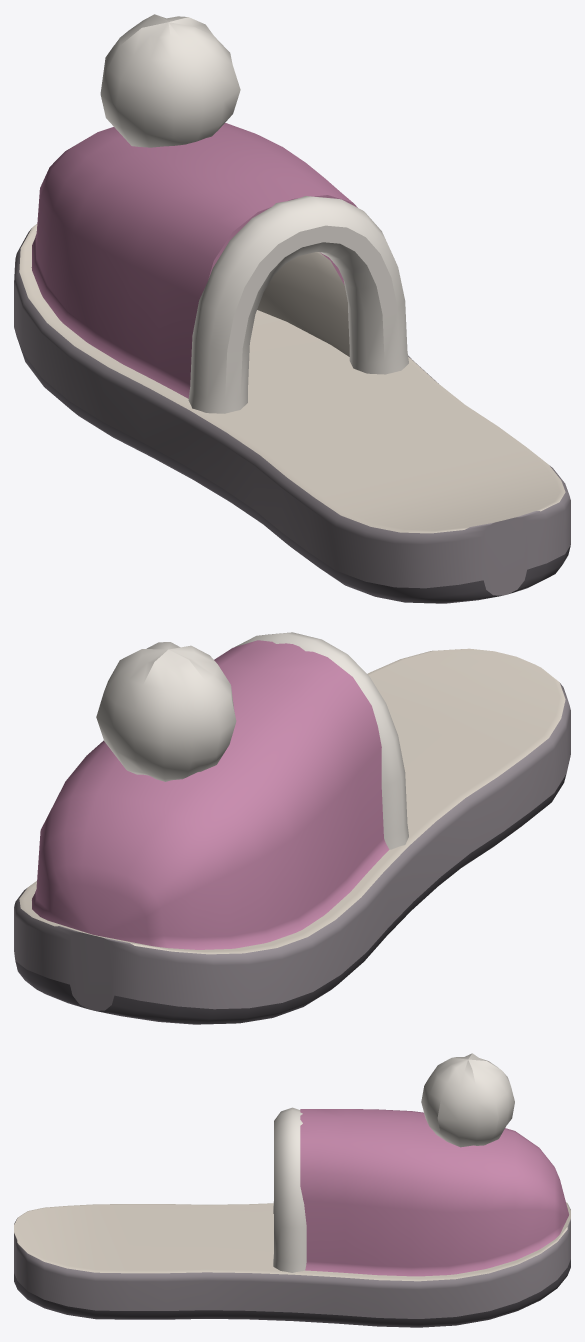
File: w_pj_slipper.glb
3 views of the same model, one above another, from view 1: azimuth 30°, elevation 25°; view 2: azimuth 150°, elevation 25°; view 3: azimuth 270°, elevation 25° (orthographic). The views are drawn at different scales.
Parts seen in each view (by area): view 1: sole_wzN, toe_wzA, sole_wzB, collar_wzB, pom_wzN, sole_wzB.001; view 2: toe_wzA, sole_wzB, sole_wzN, pom_wzN, sole_wzB.001, collar_wzB; view 3: toe_wzA, sole_wzB, sole_wzN, pom_wzN, sole_wzB.001, collar_wzB.
Boxes of the visible parts, x1,y1,x2,y2 form: sole_wzN: [19, 224, 565, 533]; toe_wzA: [31, 123, 357, 398]; sole_wzB: [14, 228, 570, 595]; collar_wzB: [188, 196, 408, 413]; pom_wzN: [100, 14, 240, 147]; sole_wzB.001: [14, 329, 570, 603]; toe_wzA: [32, 640, 389, 949]; sole_wzB: [14, 683, 570, 1010]; sole_wzN: [19, 648, 565, 954]; pom_wzN: [96, 642, 236, 781]; sole_wzB.001: [15, 774, 566, 1024]; collar_wzB: [235, 632, 408, 849]; toe_wzA: [300, 1109, 568, 1276]; sole_wzB: [14, 1204, 570, 1318]; sole_wzN: [14, 1202, 570, 1281]; pom_wzN: [421, 1053, 514, 1147]; sole_wzB.001: [14, 1259, 570, 1327]; collar_wzB: [273, 1107, 306, 1272].
Bounding box in the file's own units: 0.106 × 0.1264 × 0.279.
